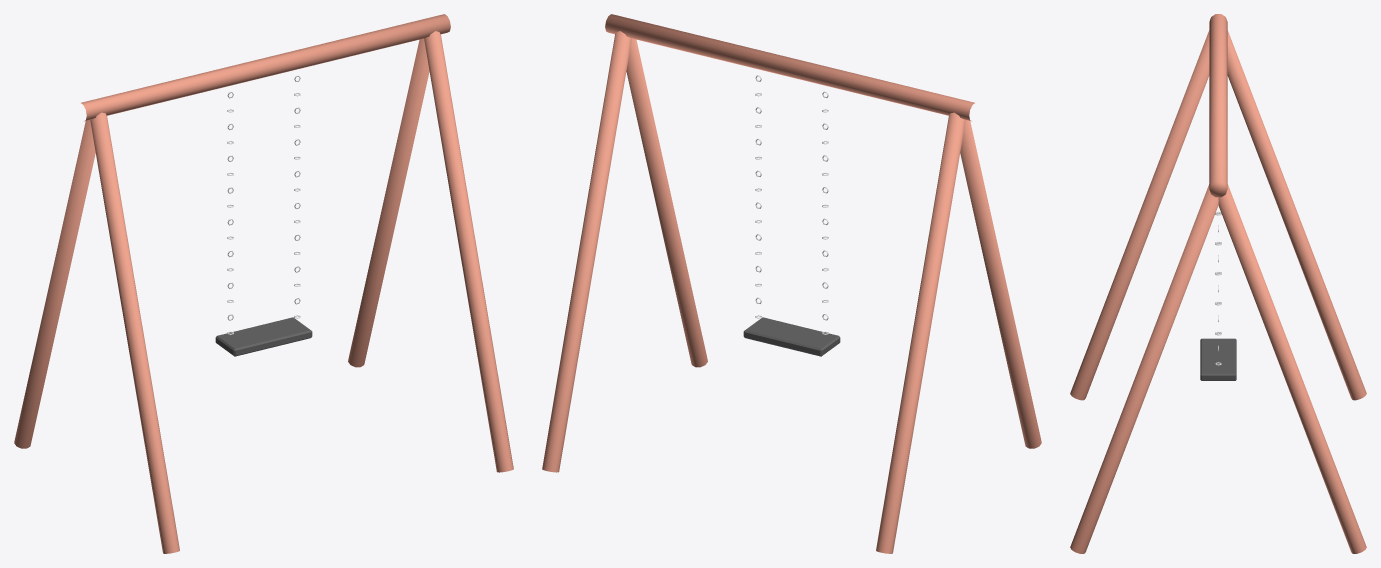
Rendered from swing_single.glb.
The picture shows the model from 3 angles, left to right: view 1: azimuth 30°, elevation 25°; view 2: azimuth 150°, elevation 25°; view 3: azimuth 270°, elevation 25°; orthographic projection. The views are drawn at different scales.
Visible parts, largest first — view 1: Frame, Seat; view 2: Frame, Seat; view 3: Frame, Seat.
Boxes of the visible parts, x1,y1,x2,y2 form: Frame: [14, 14, 513, 553]; Seat: [215, 75, 312, 356]; Frame: [542, 14, 1041, 553]; Seat: [743, 75, 840, 356]; Frame: [1070, 14, 1366, 553]; Seat: [1200, 211, 1236, 380].
Bounding box in the file's own units: 2.4 × 2.52 × 1.79.
